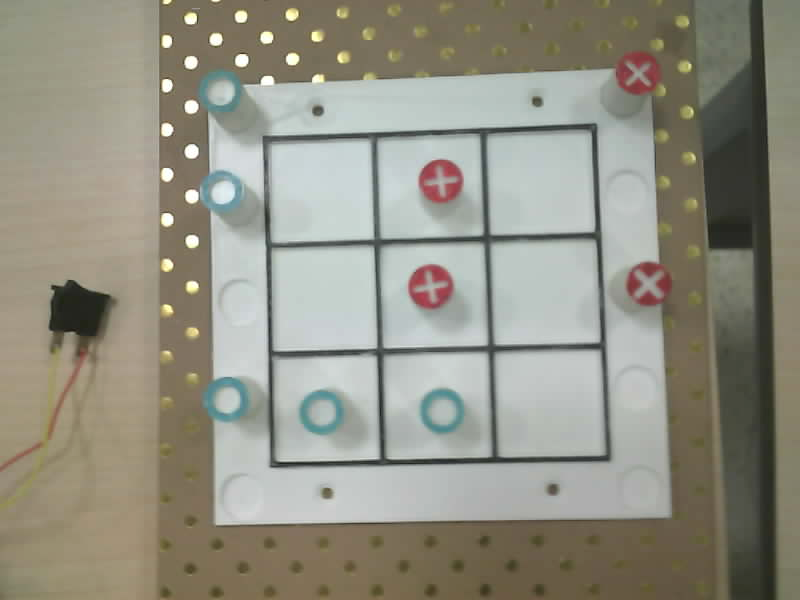blue circle: (203, 377, 249, 421), (420, 388, 464, 433), (299, 390, 343, 434), (200, 170, 243, 214), (198, 70, 242, 112)
board: (200, 53, 670, 524)
cells: (495, 350, 605, 457), (383, 352, 491, 459), (271, 355, 379, 461), (487, 129, 595, 235), (491, 239, 600, 344), (381, 242, 487, 347), (267, 139, 373, 242), (271, 246, 375, 350), (378, 134, 482, 237)
grid: (263, 123, 610, 466)
red cross: (408, 264, 453, 308), (616, 51, 661, 94), (626, 262, 671, 305), (419, 159, 462, 202)
